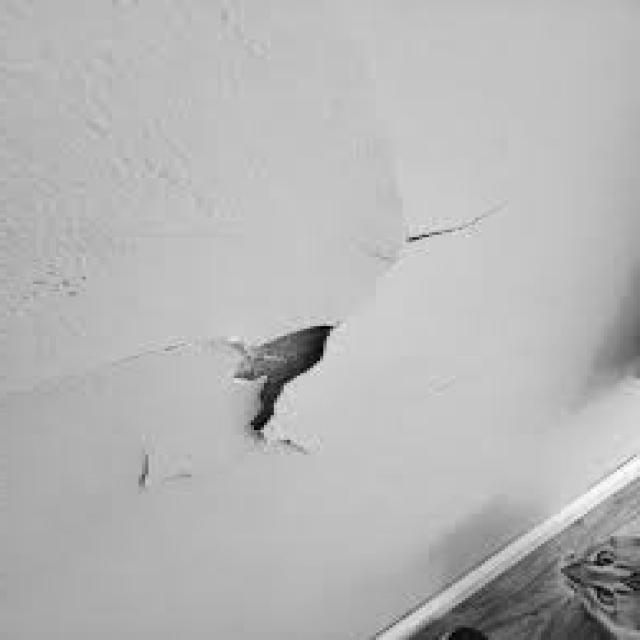peeling paint: (93, 146, 541, 500)
